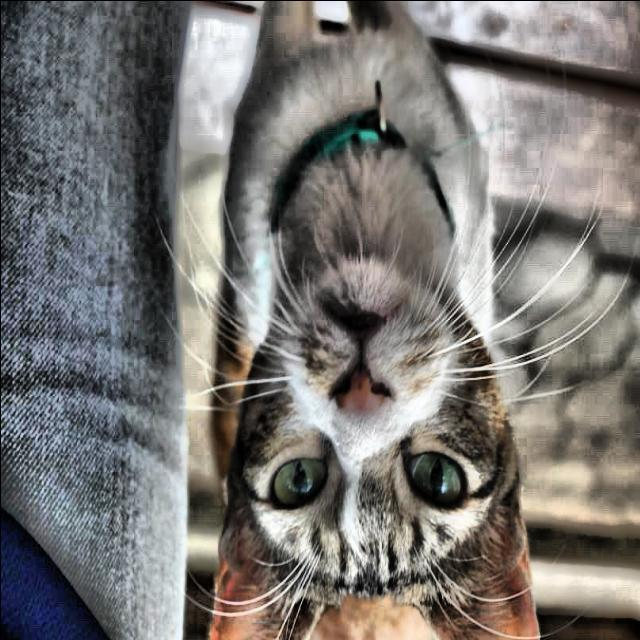Healthy skin: (267, 216, 463, 426), (240, 440, 500, 554)
